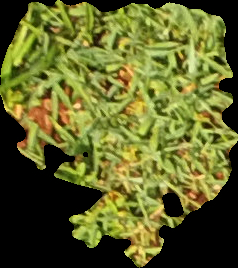grass: (1, 2, 237, 266)
